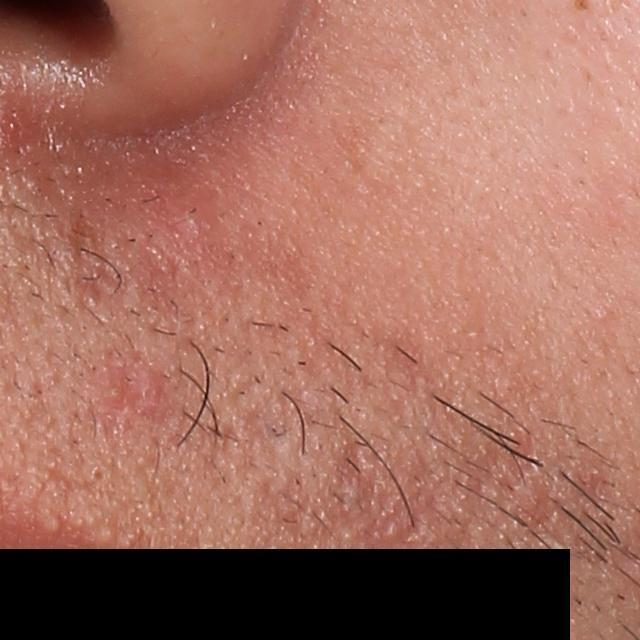comedo: (87, 462, 109, 485), (591, 304, 613, 327)
papule: (127, 374, 163, 409)
